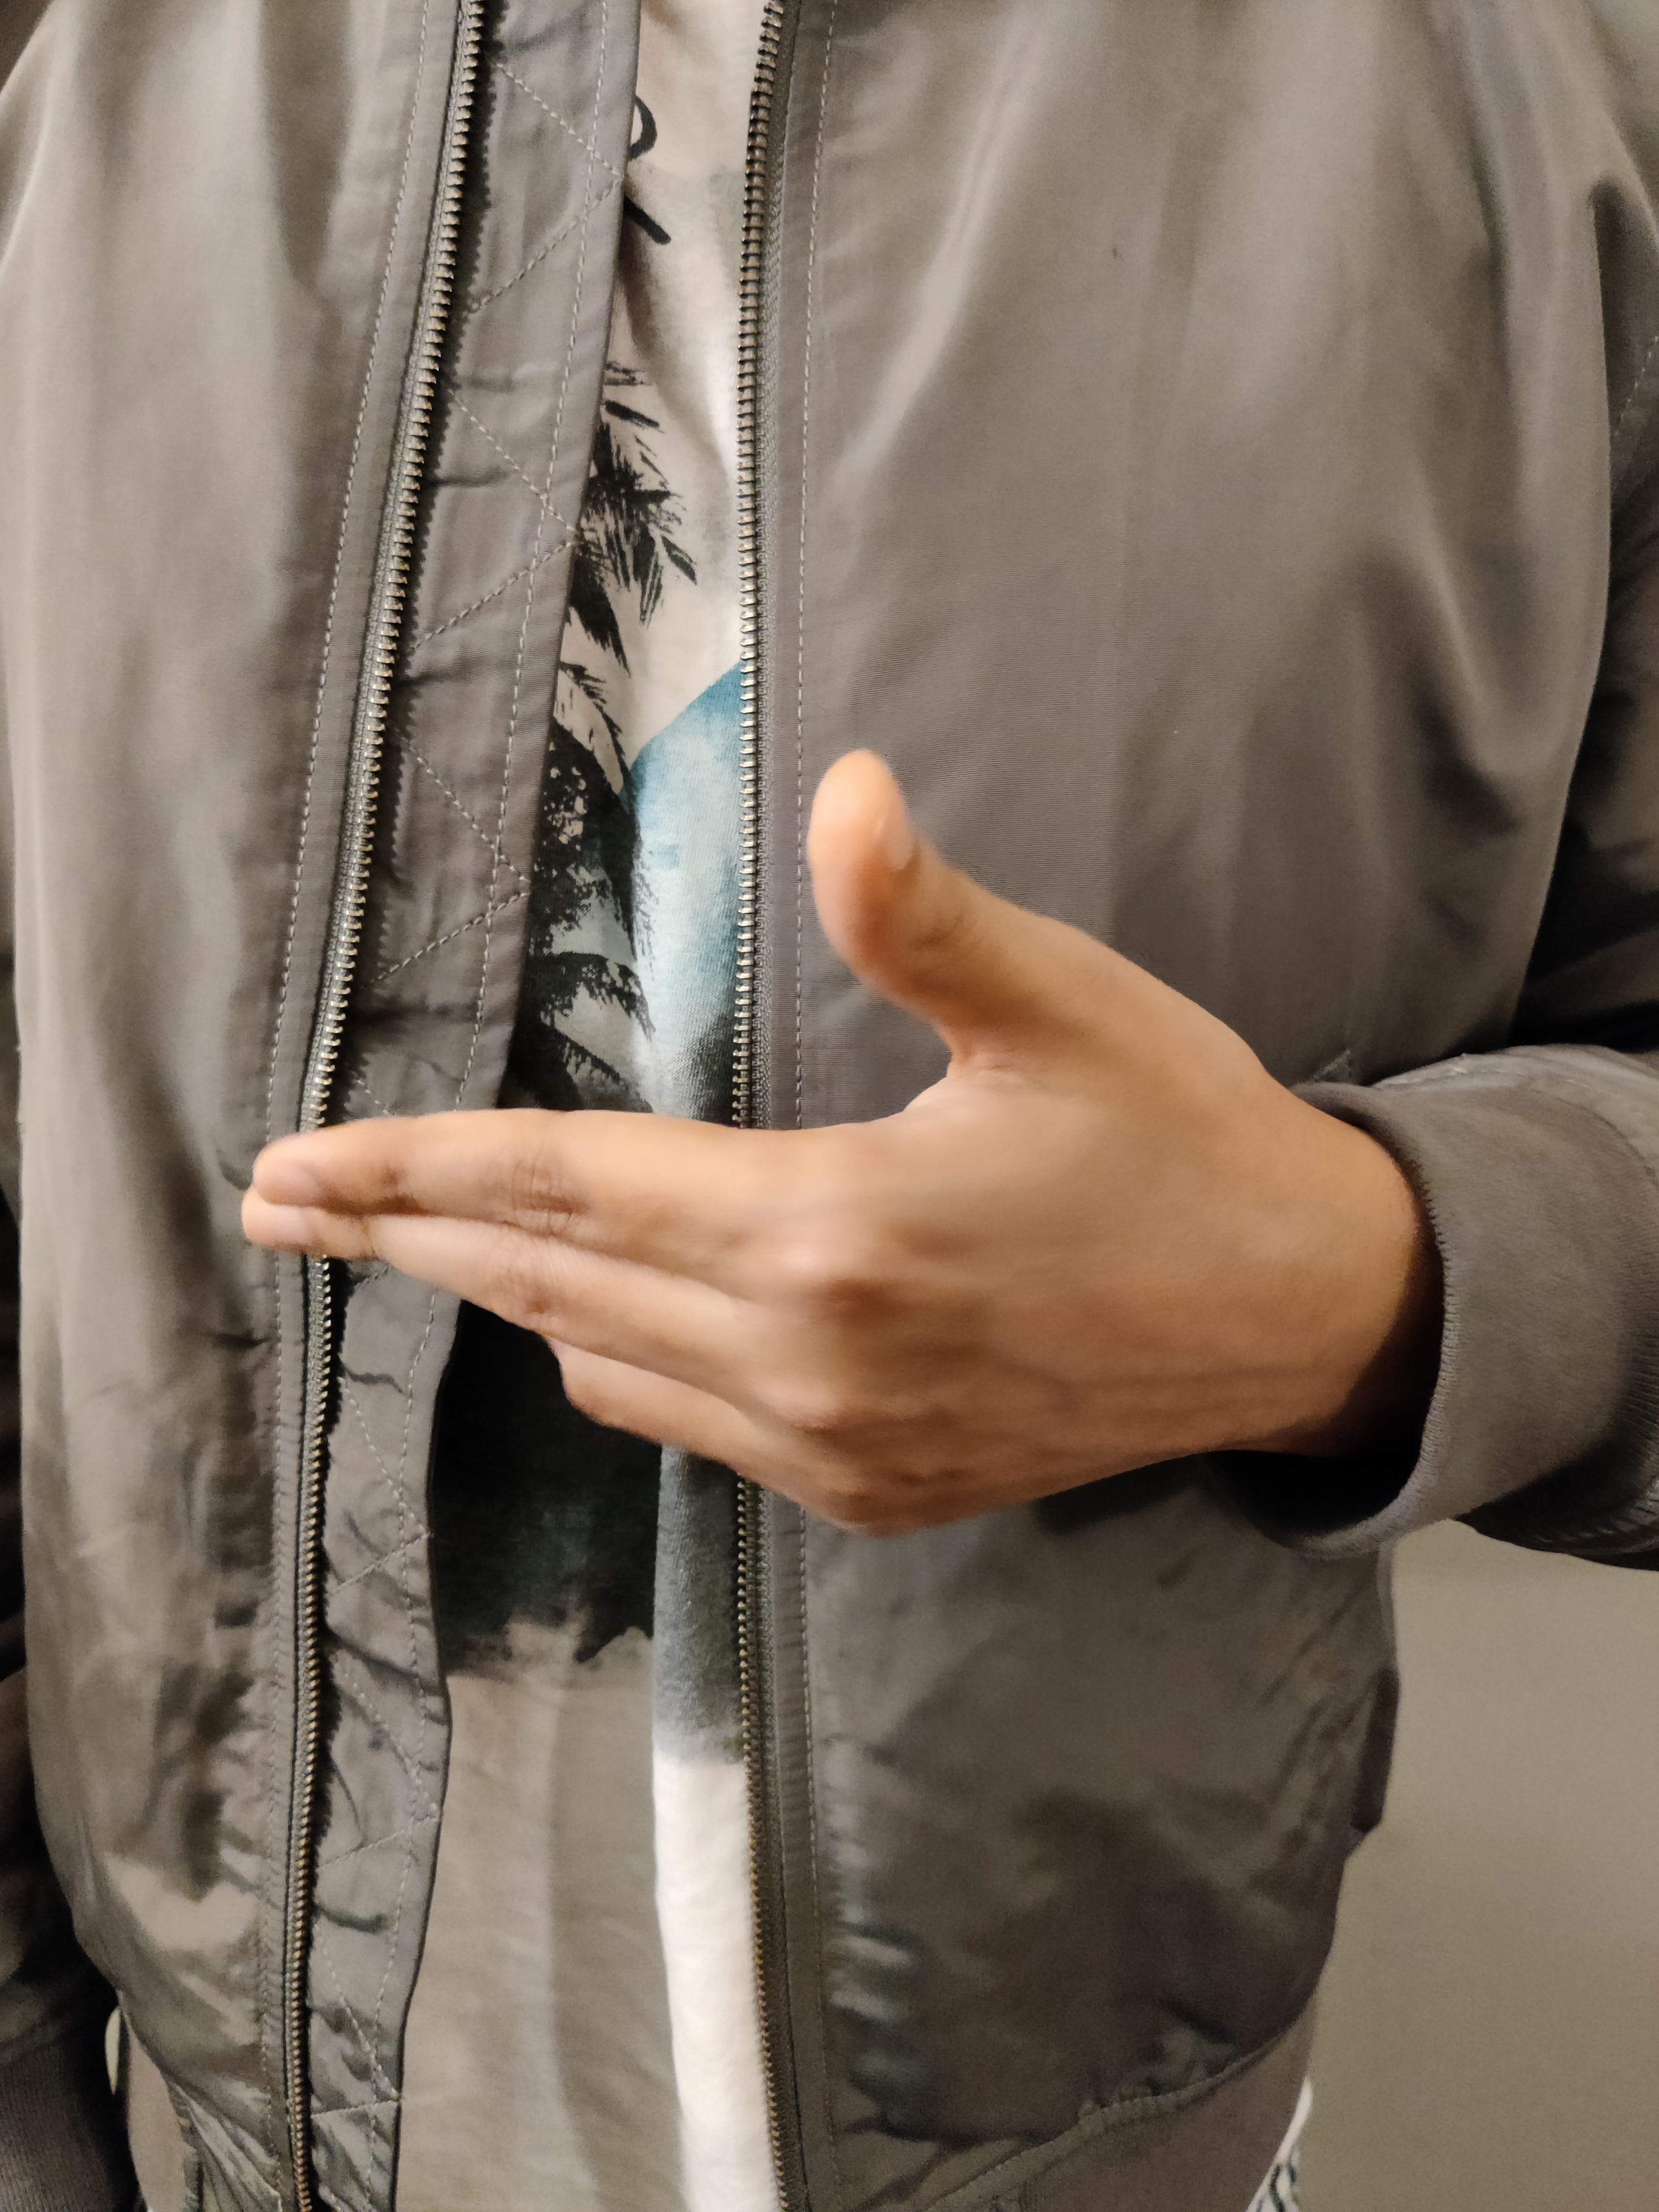right: (75, 678, 1614, 1761)
